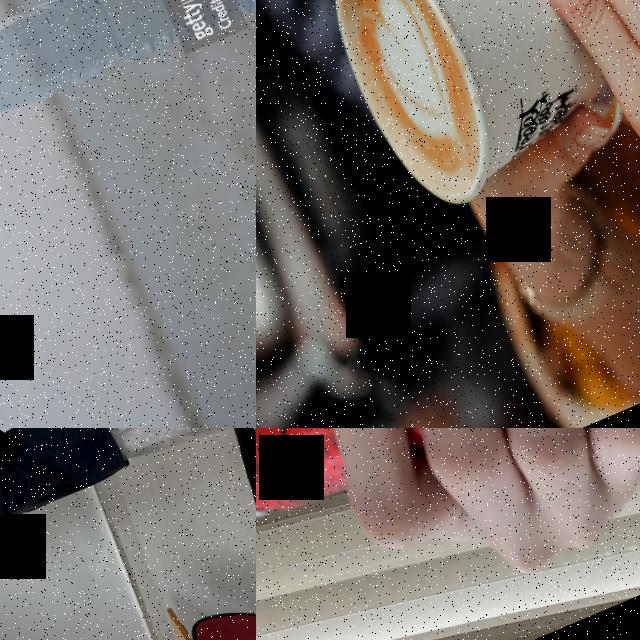bottle: (0, 0, 256, 162)
can: (256, 428, 640, 566)
cup: (302, 0, 640, 225)
